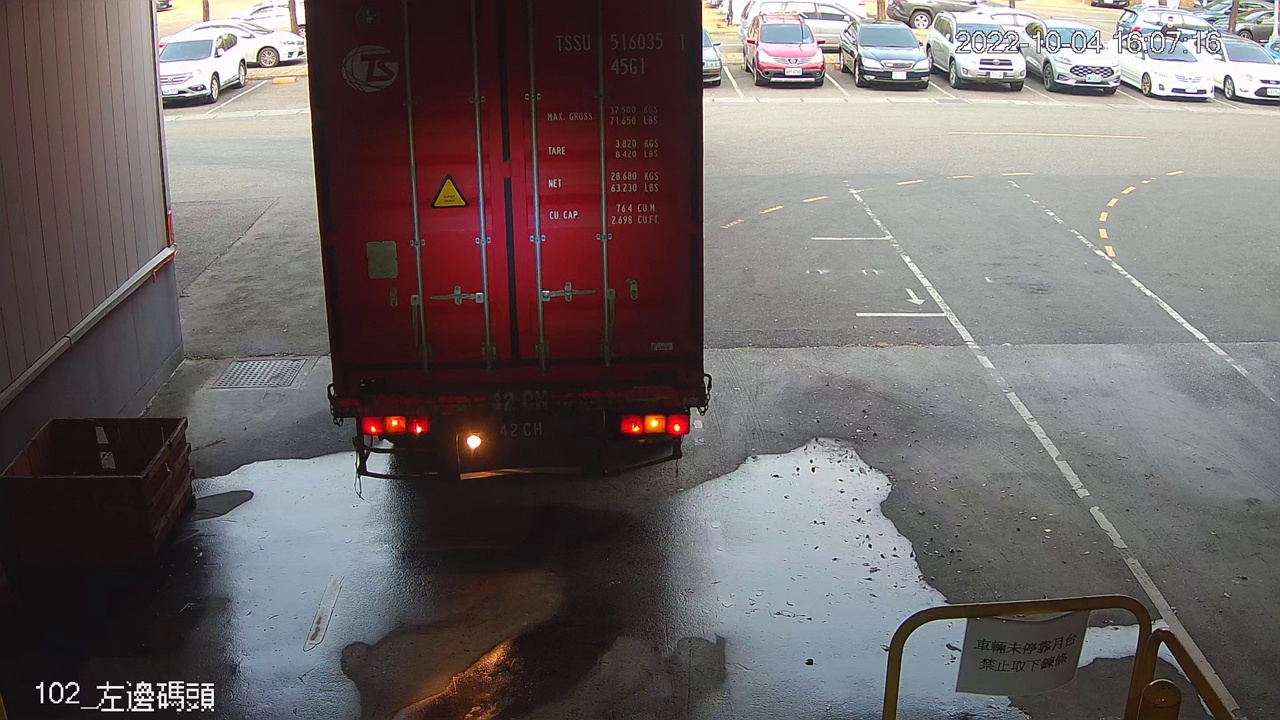container: (547, 26, 695, 82)
